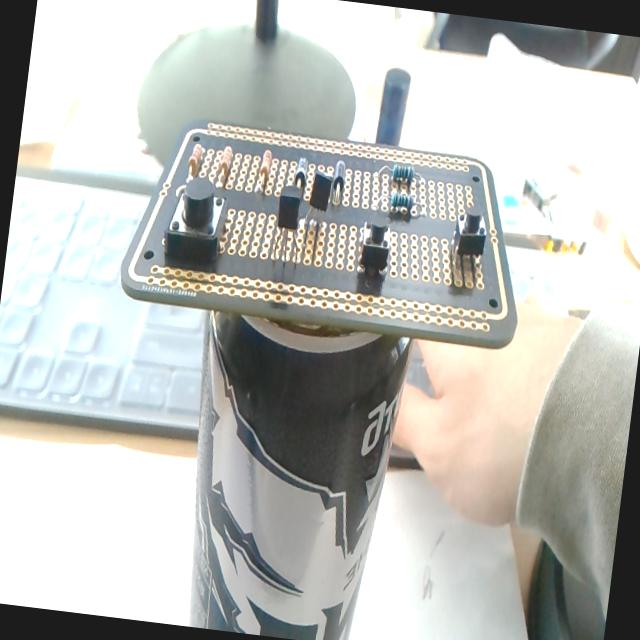diode: (330, 158, 348, 206), (292, 156, 308, 192)
resistor: (388, 190, 414, 217), (217, 144, 234, 184), (186, 142, 204, 178), (391, 162, 415, 185), (258, 148, 272, 186)
switch: (163, 174, 228, 264), (450, 205, 490, 267), (357, 220, 392, 277)
transistor: (300, 160, 336, 255), (271, 184, 304, 266)
